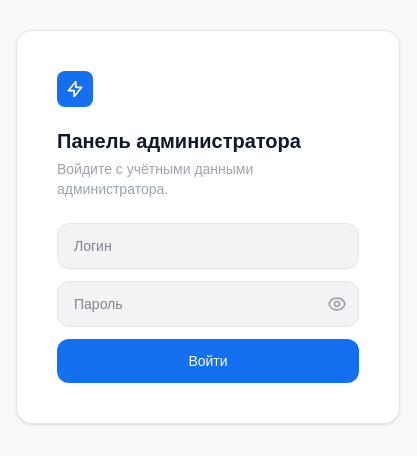
AdminPage — загрузка и аутентификация › неверные данные показывают сообщение об ошибке
Step 1. Type "admin" into the field with placeholder "Логин" → (208, 246), box x1=57 y1=223 x2=359 y2=269
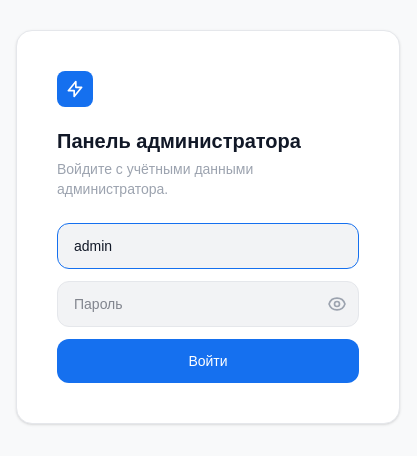
Step 2. Type "wrongpass" into the password field with placeholder "Пароль" → (208, 304), box x1=57 y1=281 x2=359 y2=327
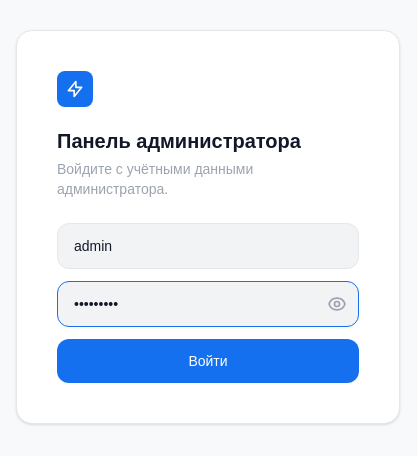
Step 3. Click the button "Войти" → (208, 361), box x1=57 y1=339 x2=359 y2=383
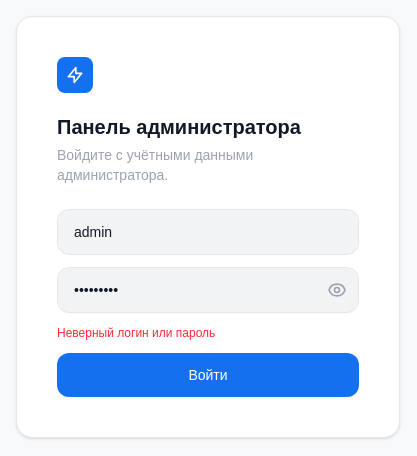
Now the text "Неверный логин или пароль" is shown, box x1=57 y1=326 x2=215 y2=340
